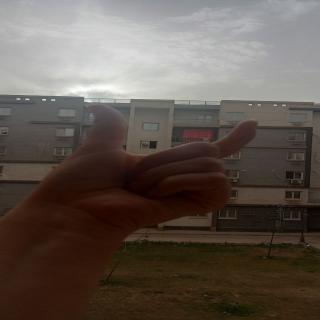NOON: (37, 104, 300, 228)
